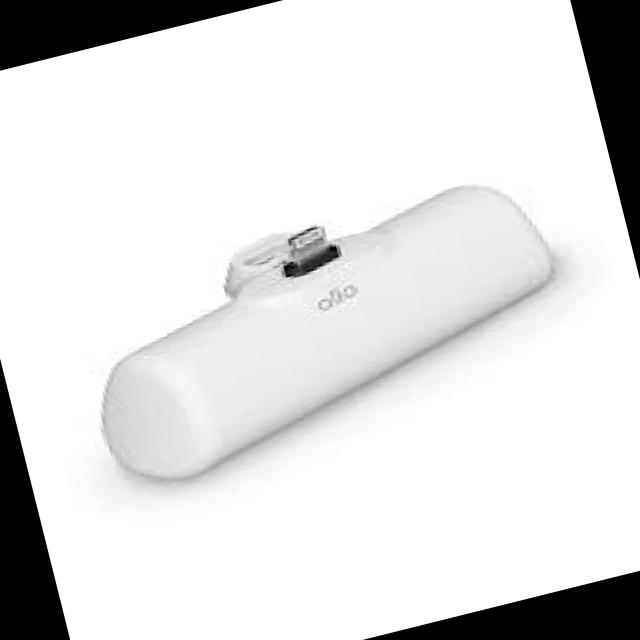portable-charger: (50, 155, 602, 504)
